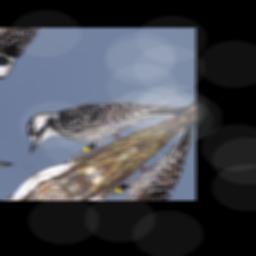Woodpecker: (10, 46, 193, 192)
